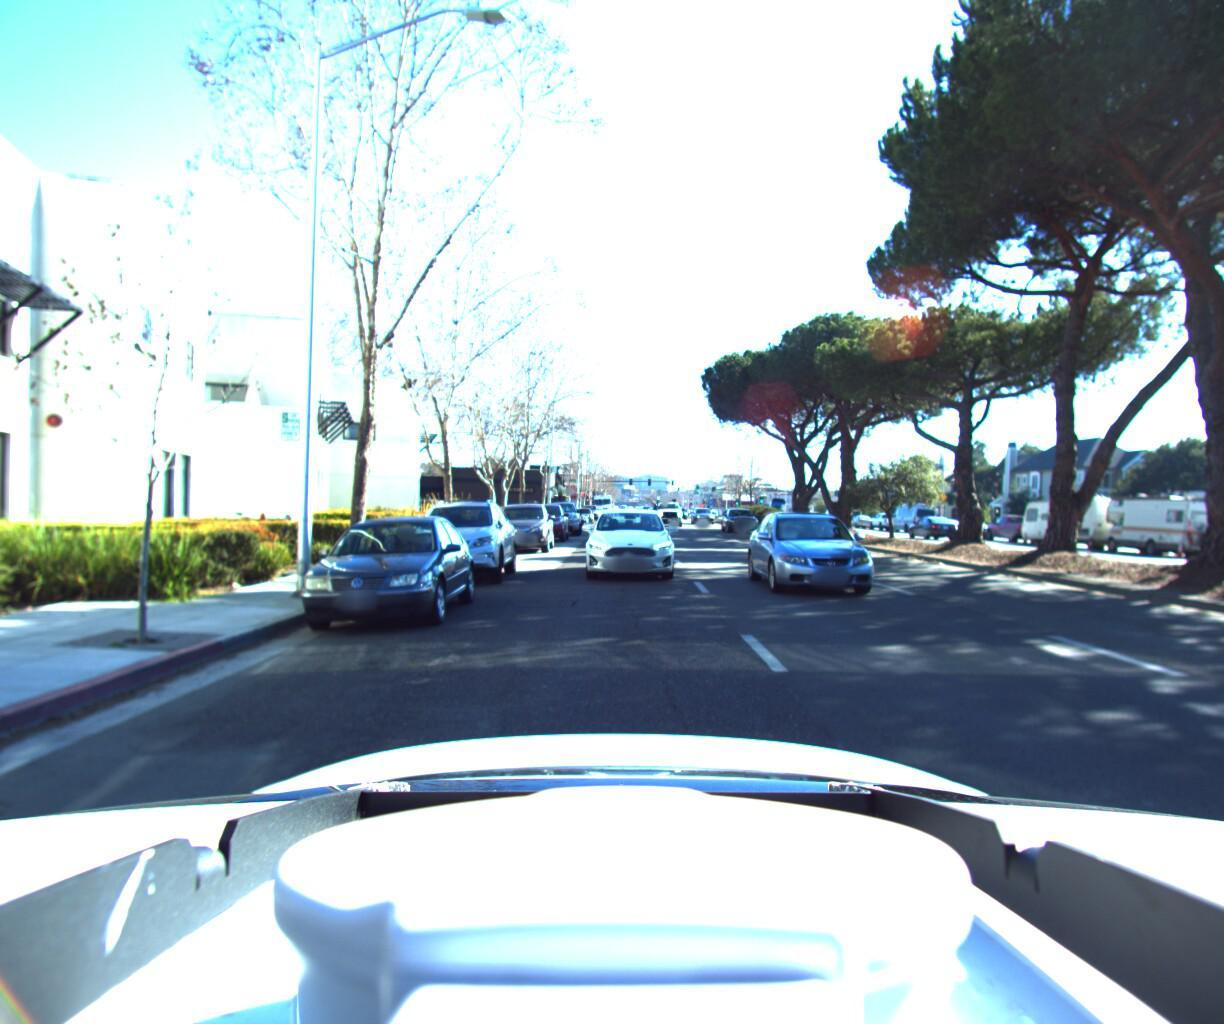car: (273, 506, 486, 645), (746, 508, 904, 614), (390, 492, 525, 592), (577, 506, 675, 589), (486, 496, 557, 555), (1163, 515, 1224, 568), (980, 509, 1054, 543), (518, 498, 572, 542), (535, 496, 584, 535), (886, 497, 940, 532), (899, 510, 951, 538), (948, 510, 996, 538), (720, 511, 761, 538), (651, 494, 681, 526), (866, 507, 905, 529), (689, 508, 716, 526)
other_vehicle: (1096, 482, 1224, 558), (1017, 485, 1149, 552)
